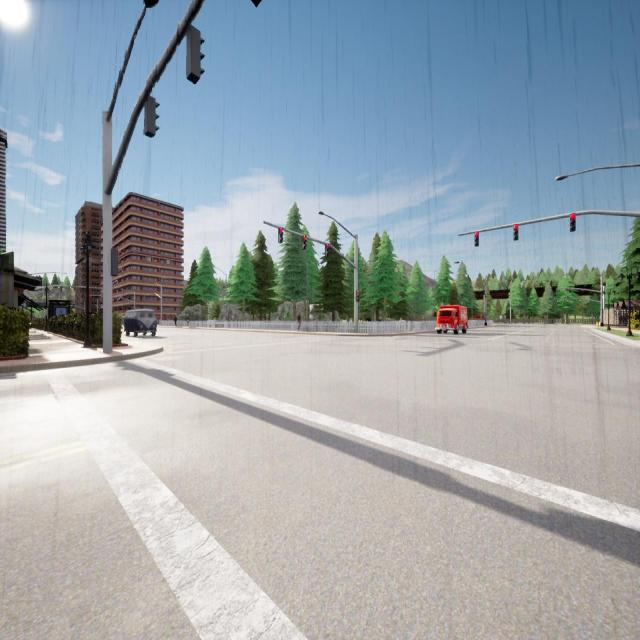Pedestrian: (298, 311, 301, 331), (187, 314, 190, 327), (174, 315, 177, 327)
Traffic_Signs: (500, 316, 502, 318)
Vehicle: (437, 306, 467, 333), (125, 310, 156, 336)
traffic_light: (187, 27, 205, 84), (144, 96, 160, 138), (111, 248, 118, 274), (570, 214, 576, 231), (514, 224, 518, 240), (474, 231, 478, 246), (278, 228, 282, 242), (302, 235, 306, 249), (325, 244, 329, 256), (356, 290, 360, 301), (569, 288, 571, 293), (566, 300, 568, 302), (580, 299, 581, 302), (557, 300, 558, 302)
